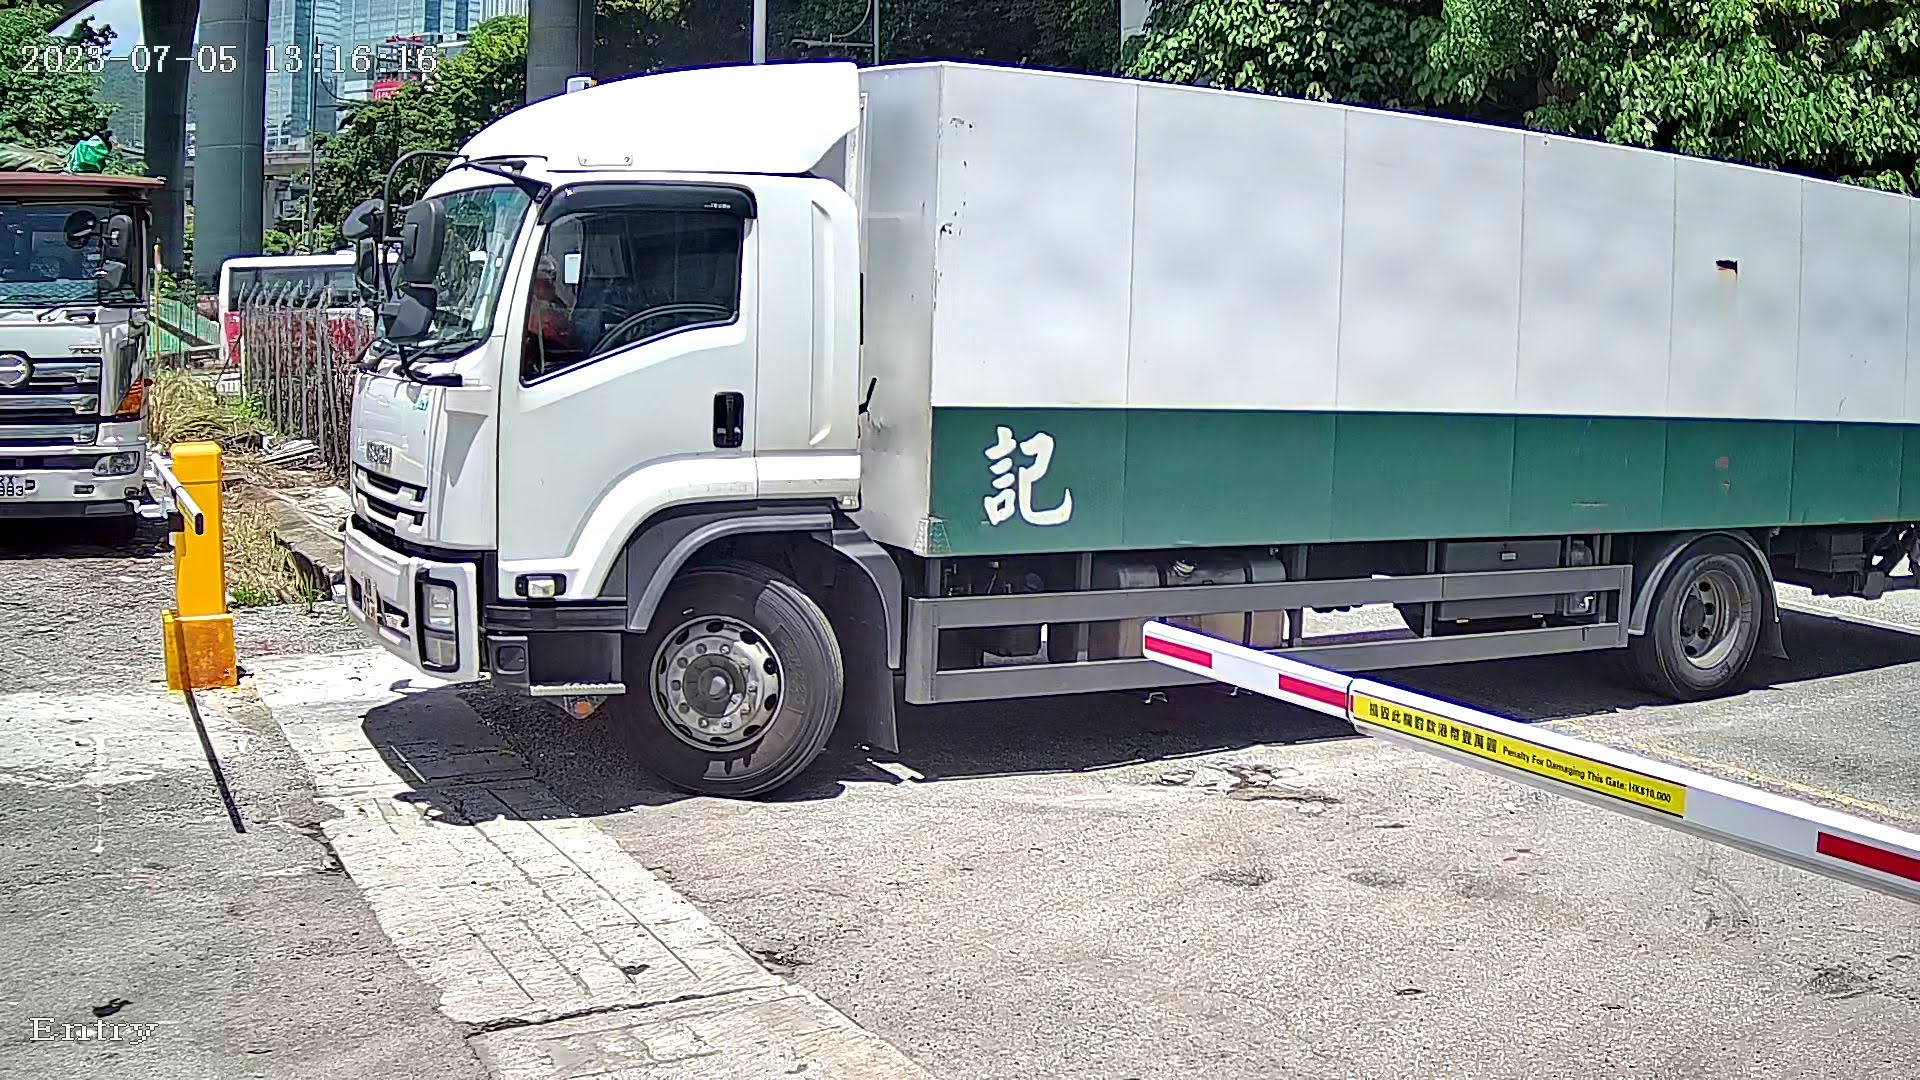truck_large: (272, 66, 1920, 833)
